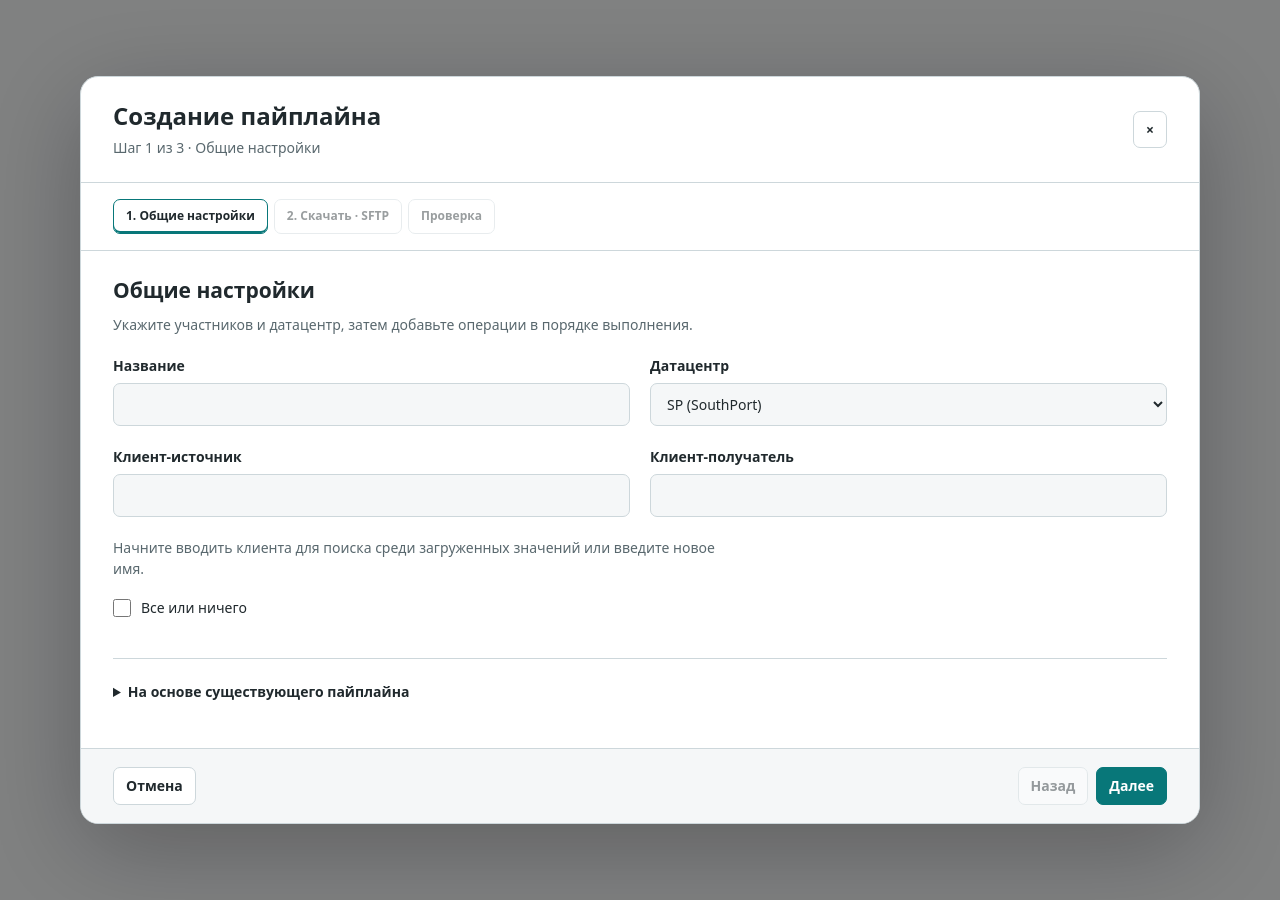
Test: blocks duplicate saves and does not announce success without a created record
Type "Новый маршрут" into the field labelled "Название" at (372, 405), box [113,383,630,426]
Type "source" into the field labelled "Клиент-источник" at (372, 496), box [113,474,630,517]
Type "recipient" into the field labelled "Клиент-получатель" at (908, 496), box [650,474,1167,517]
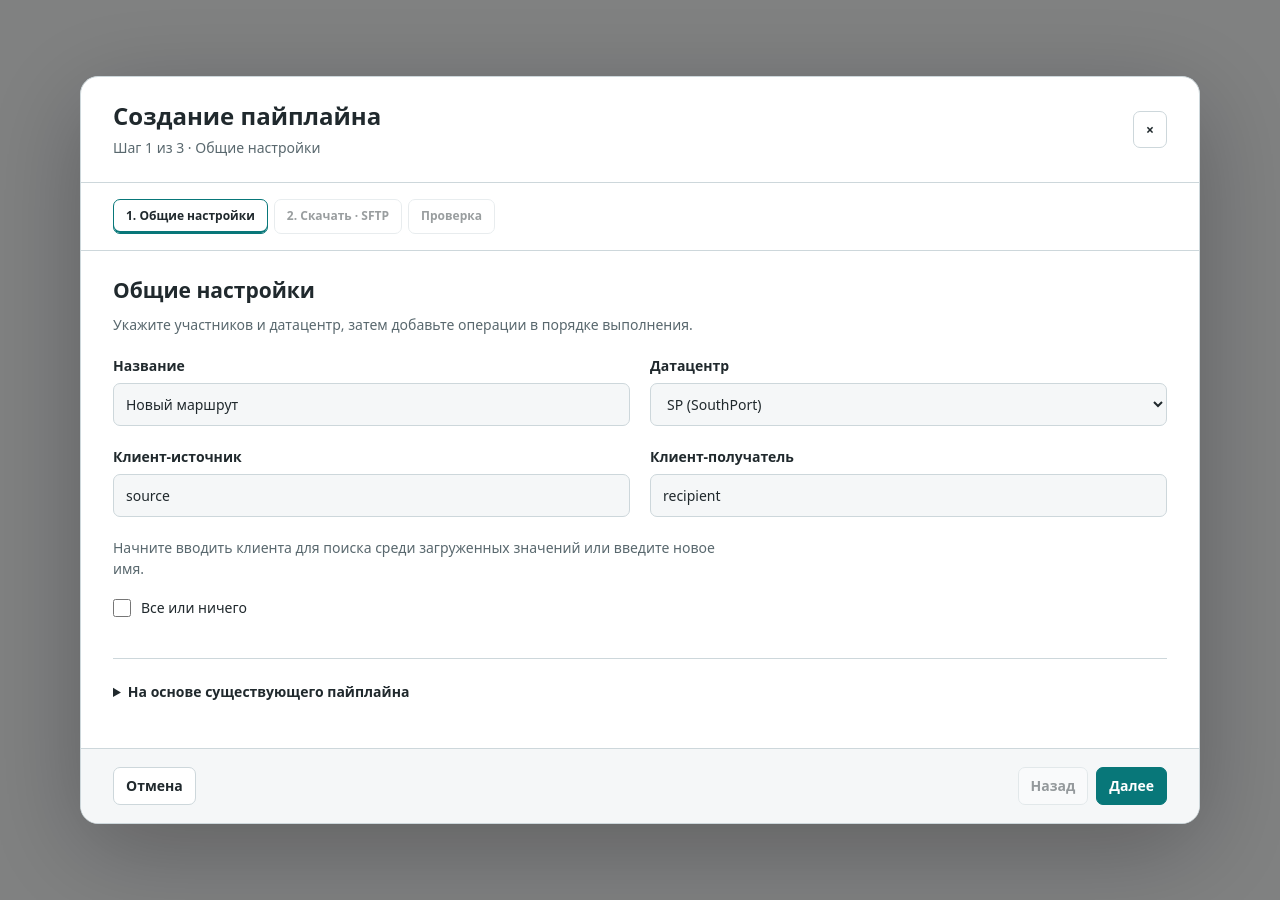
Click the button "Далее" at (1132, 786), box [1096,767,1167,805]
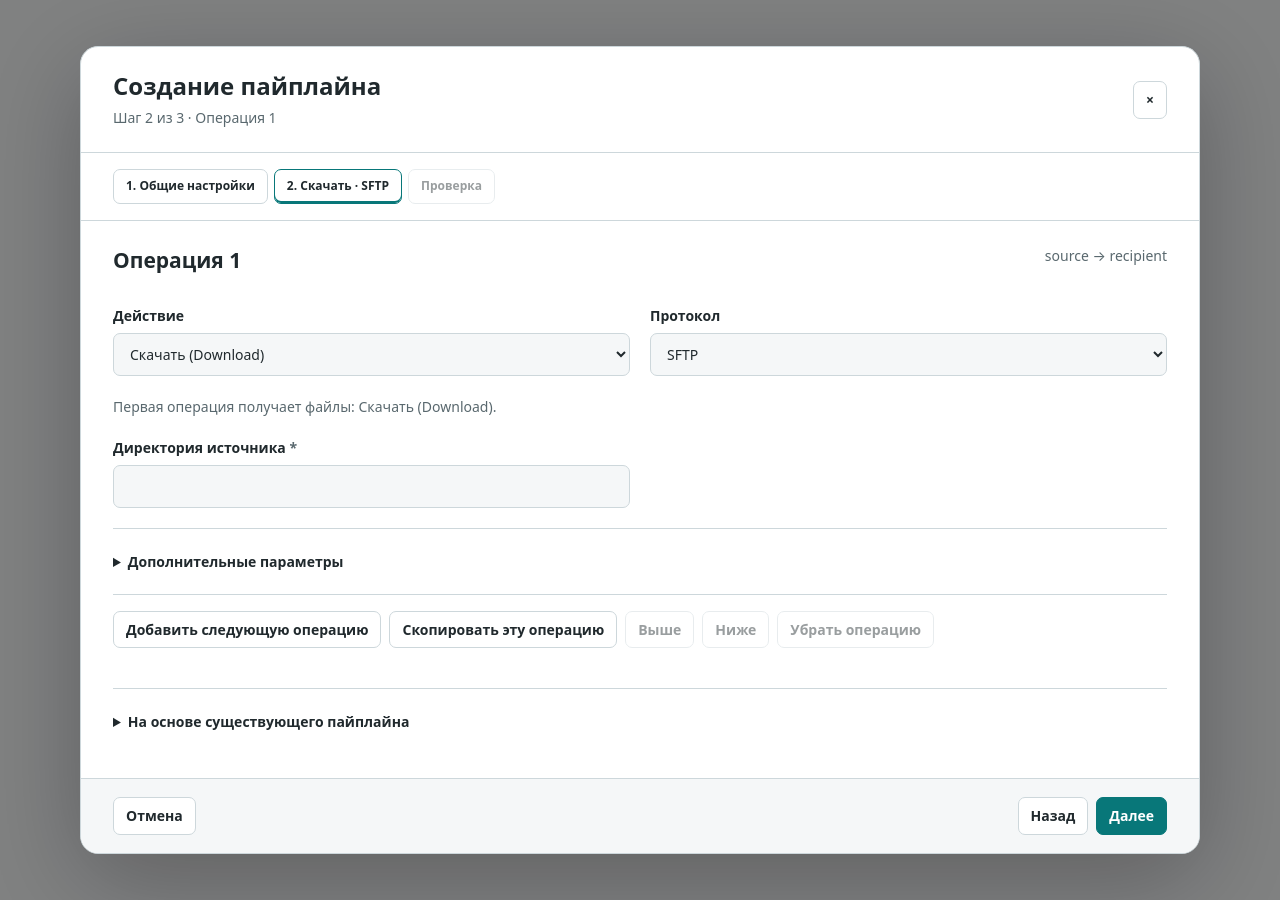
Type "/in" into the field labelled "Директория источника" at (372, 486), box [113,464,630,508]
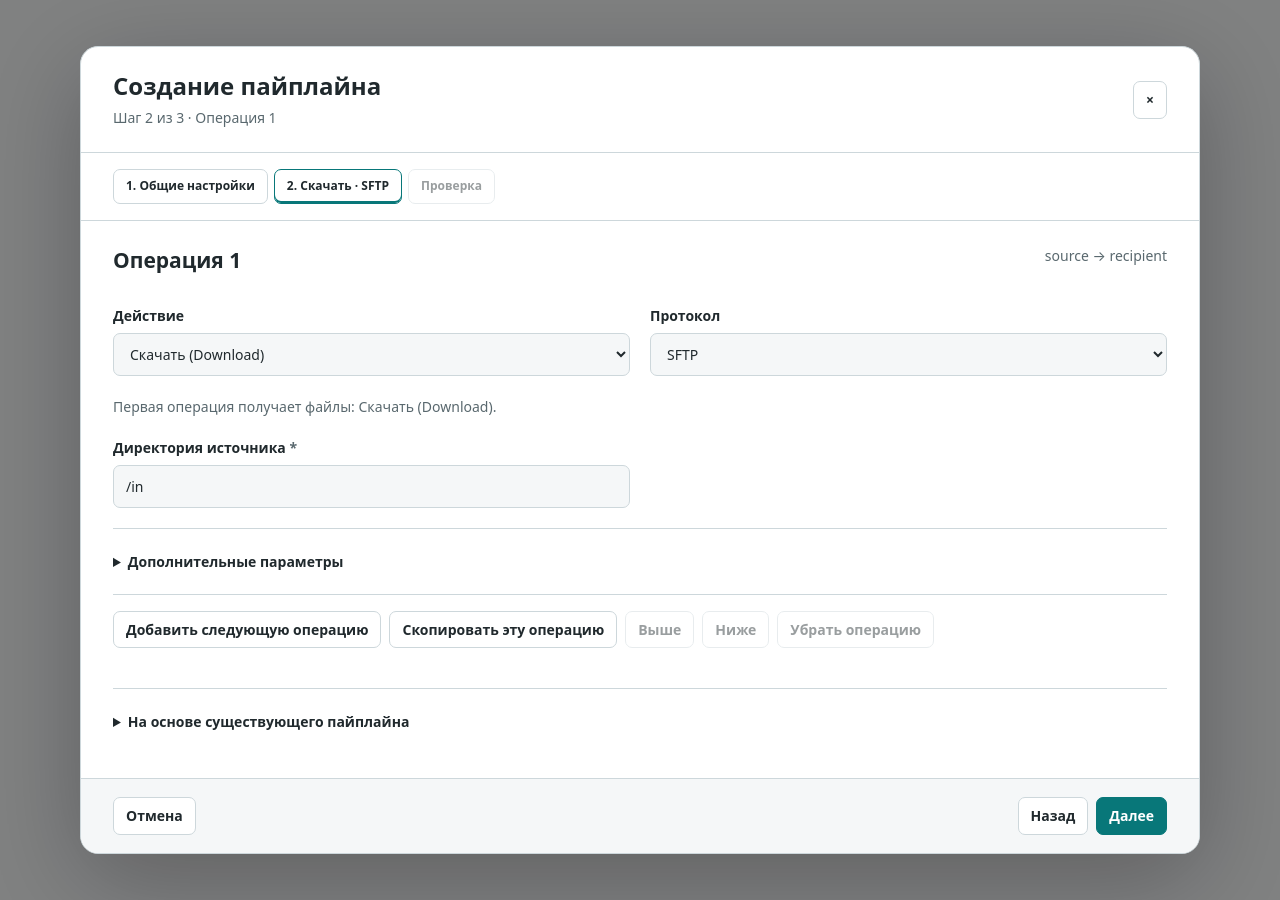
Click the button "Далее" at (1132, 816), box [1096,797,1167,835]
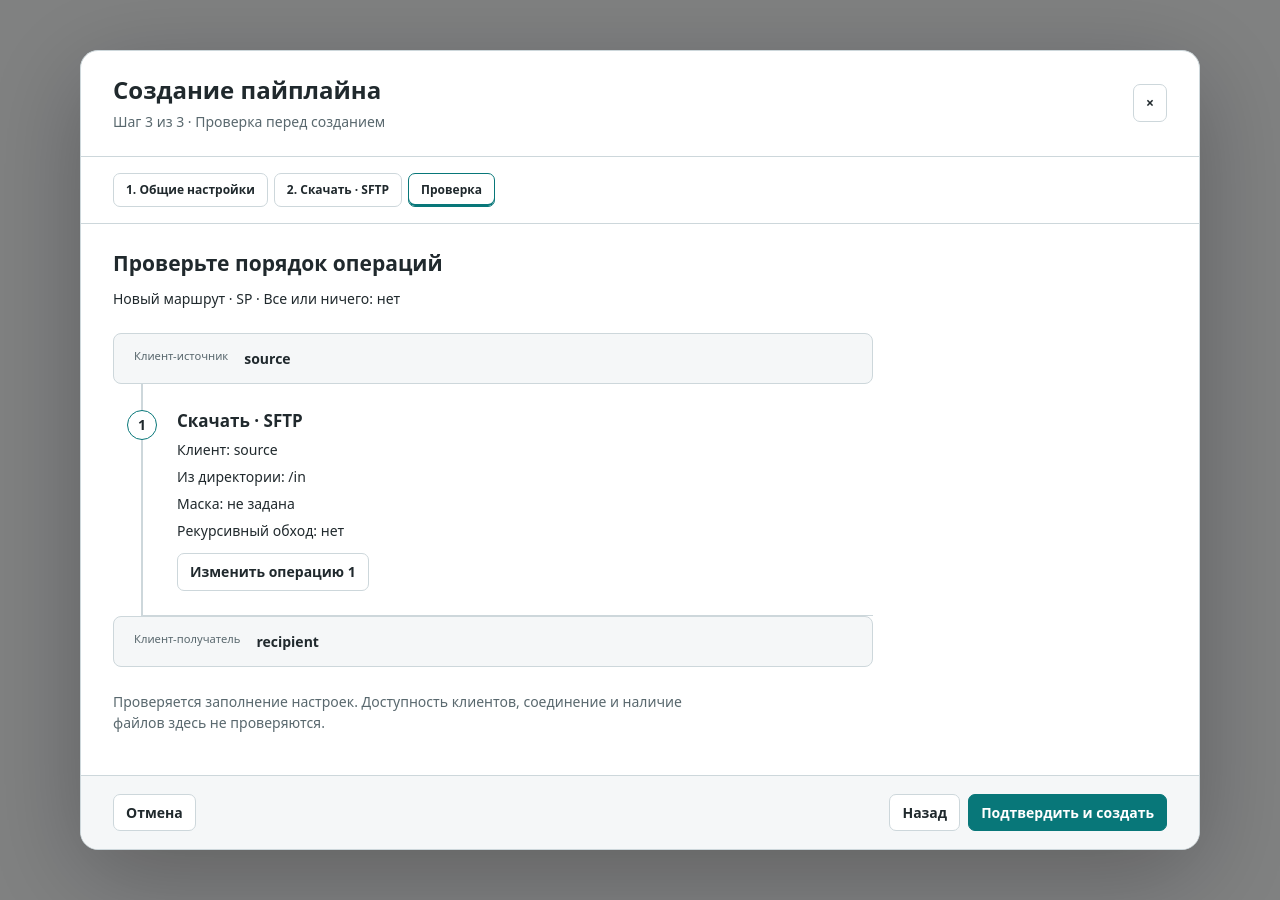
Click the button "Подтвердить и создать" at (1068, 813), box [968,794,1167,832]
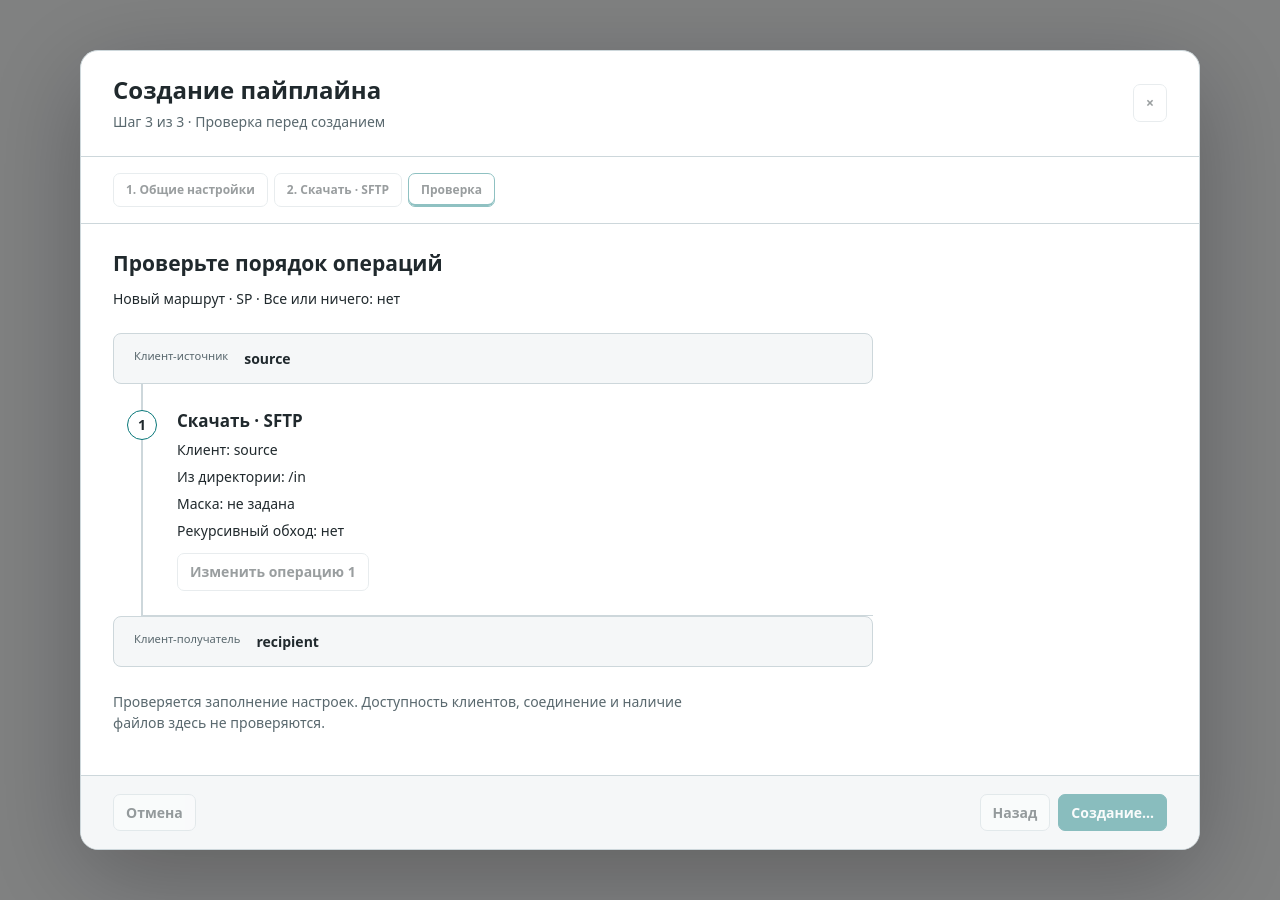
Expected: the button "Создание…" is disabled
Click the button "Создание…" at (1113, 813), box [1058,794,1167,832]
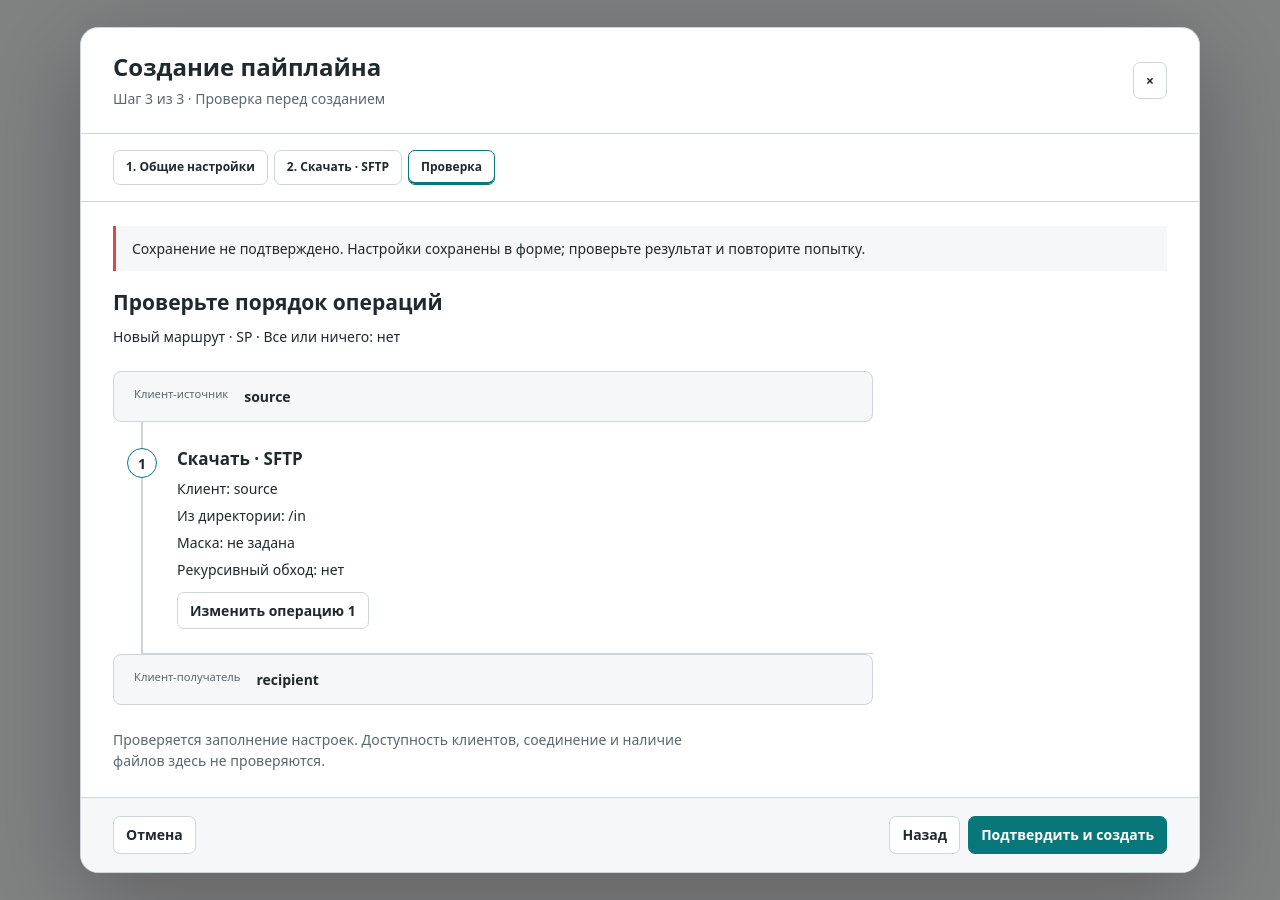
Expected: the message is shown, [113,226,1167,271]
